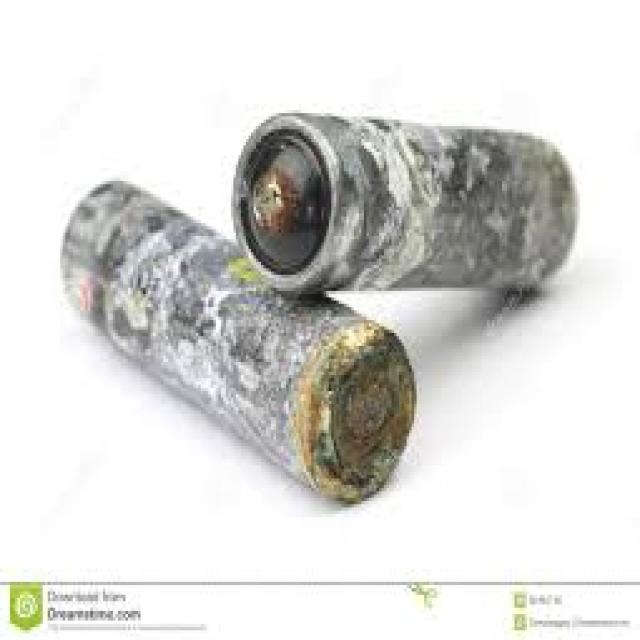non-organic waste: (64, 181, 418, 505), (235, 100, 573, 291)
